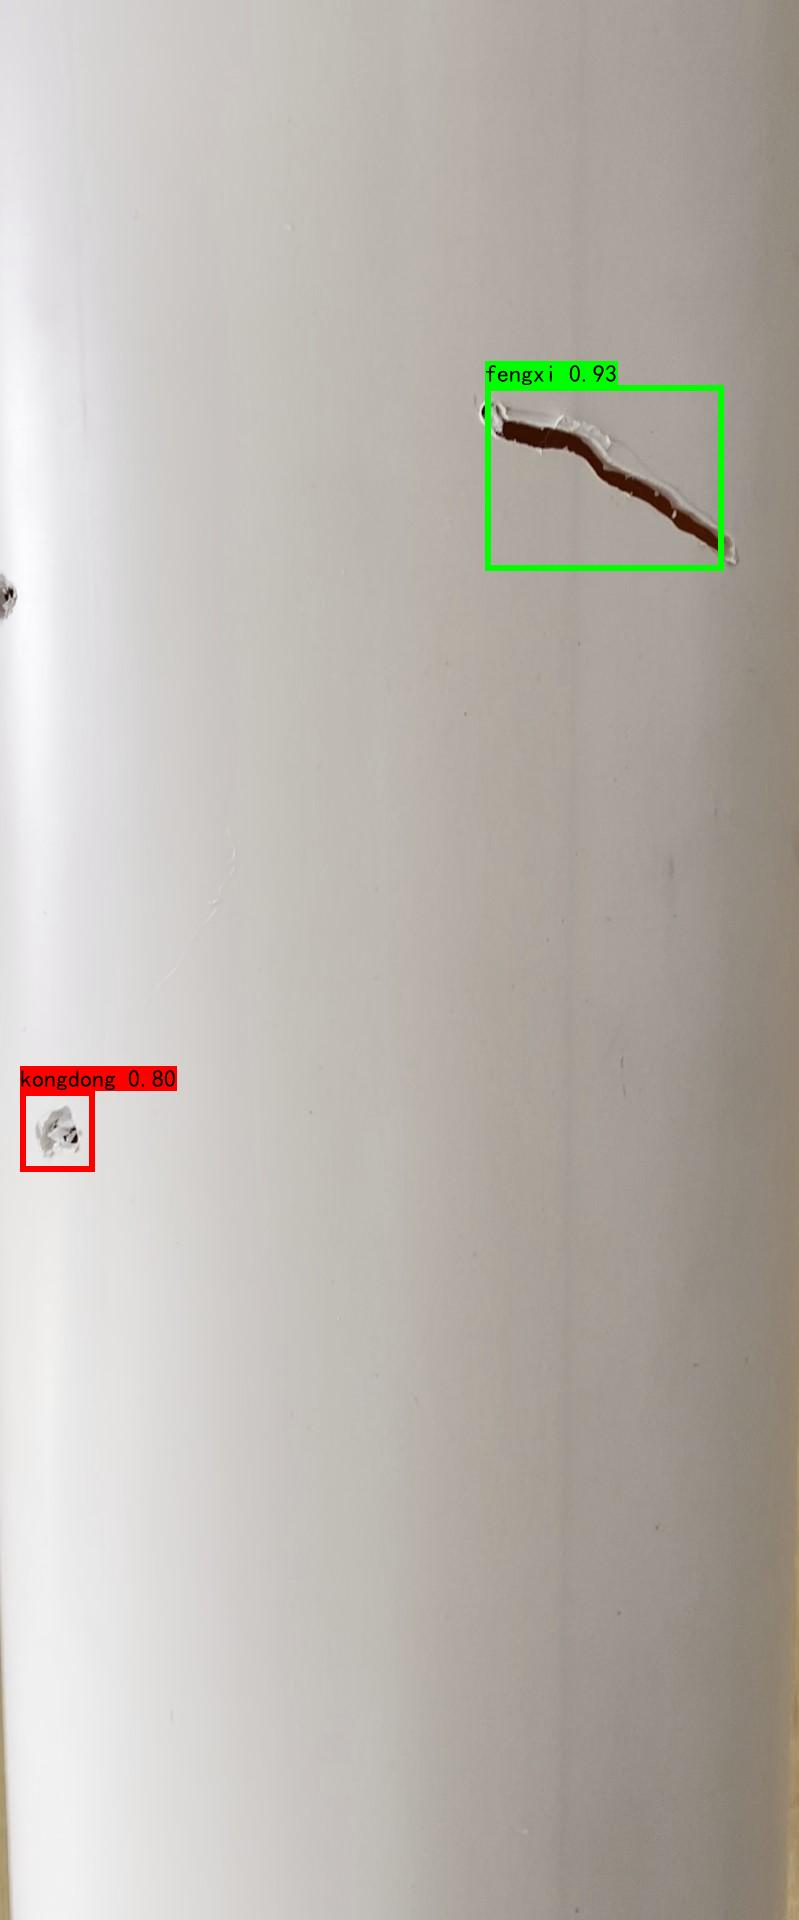fengxi: (476, 386, 751, 571)
kongdong: (26, 1090, 103, 1163), (1, 574, 40, 617)
